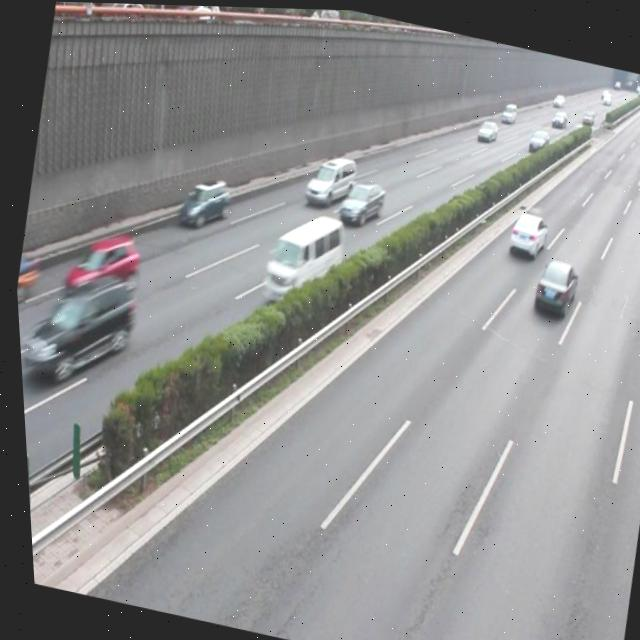car: (12, 254, 139, 396), (55, 223, 143, 309), (173, 170, 232, 231), (524, 252, 578, 317), (333, 173, 385, 225), (499, 204, 548, 259)
truck: (253, 199, 347, 314), (298, 148, 358, 209)
